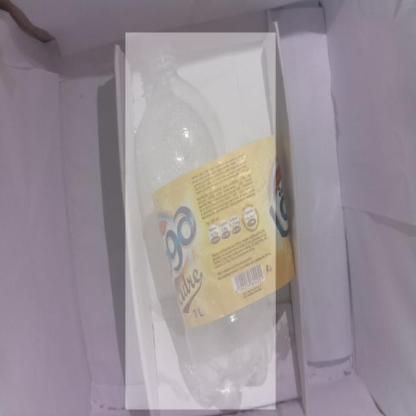Plastic Bottle: (126, 32, 276, 410)
